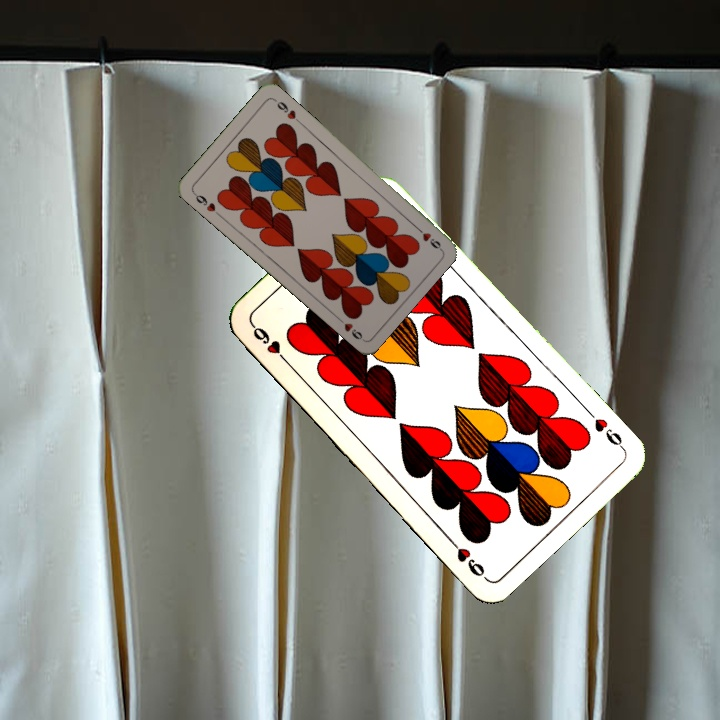H9: (582, 405, 627, 453), (248, 321, 293, 368), (189, 188, 223, 219), (410, 221, 444, 252)
